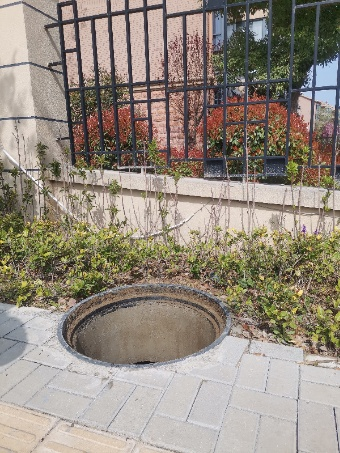lose: (57, 282, 229, 368)
